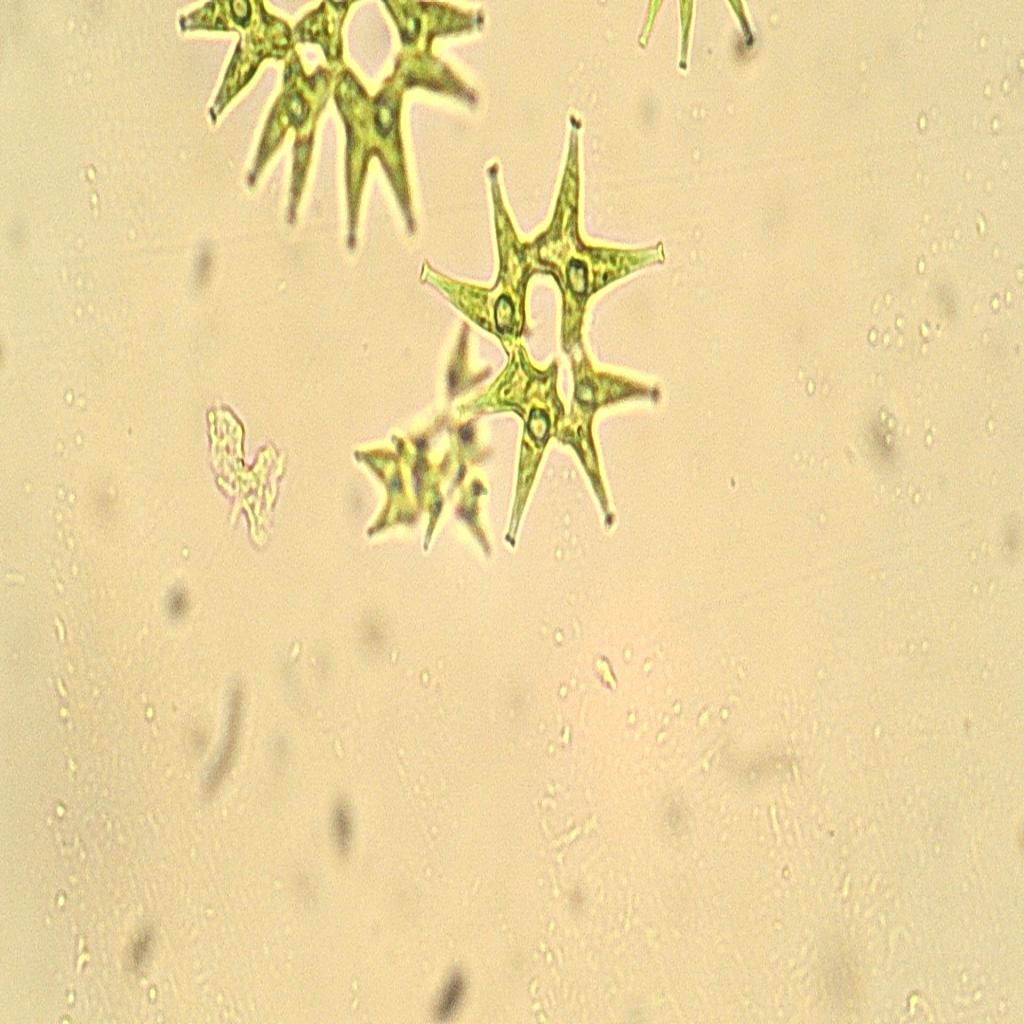Pediastrum_CF: (404, 92, 694, 594)
